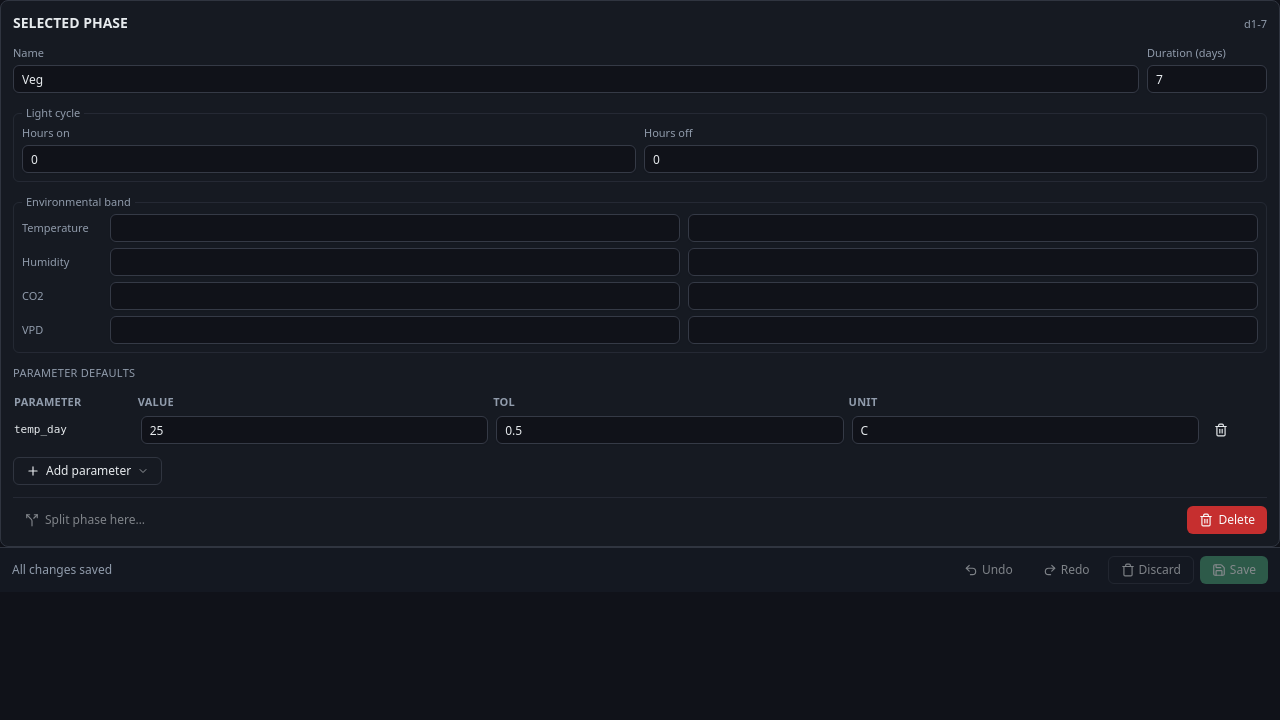
Test: <RecipeSaveBar> › happy path — both PUTs succeed, dirty count clears
Replace the text in the field named "Value for temp_day" with "26" at [314, 430], box [141, 416, 488, 444]
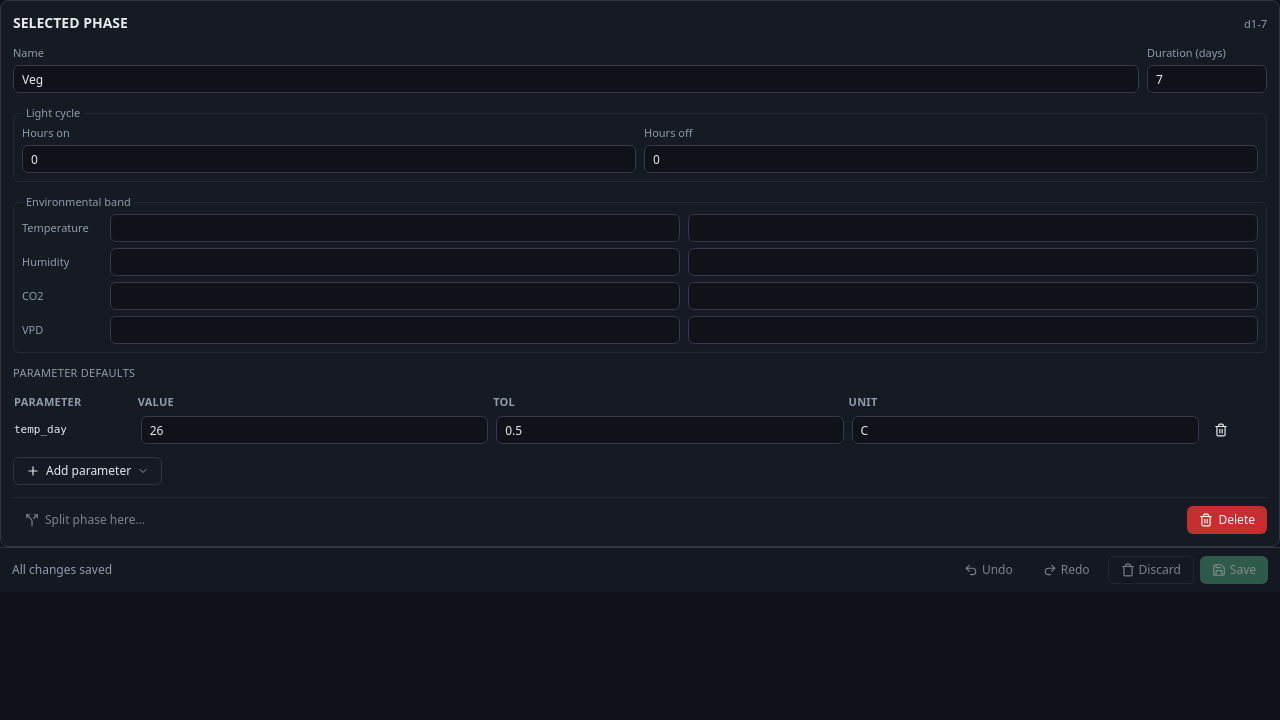
Leave the field named "Value for temp_day", box [141, 416, 488, 444]
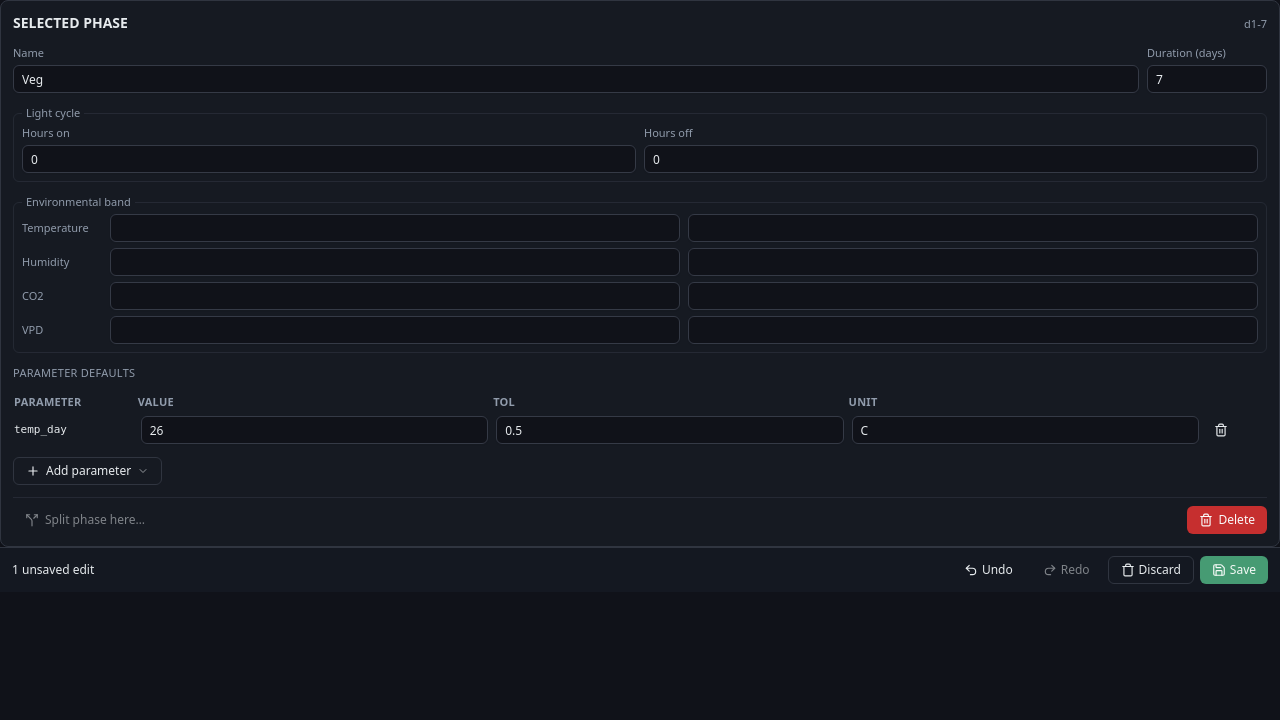
Check: the text with test id "dirty-count" shows "unsaved", box [12, 561, 94, 578]
Click the button with test id "save-button" at [1234, 570], box [1200, 556, 1268, 584]
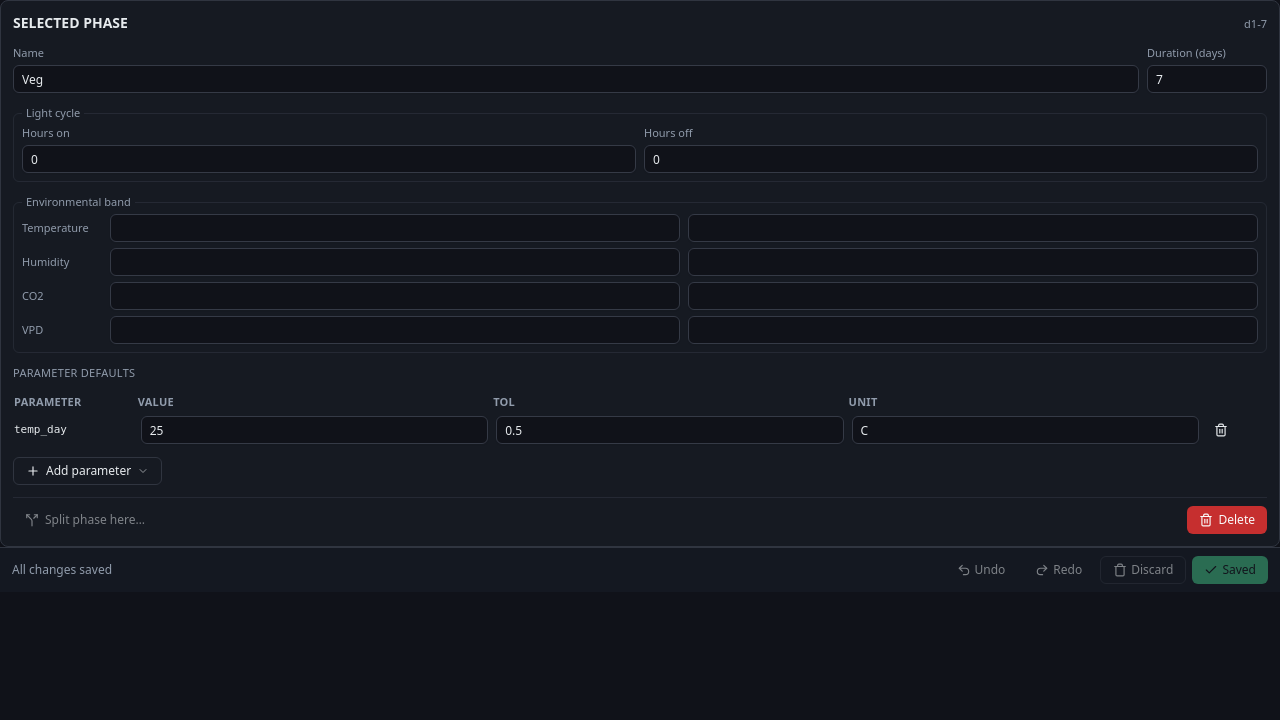
Check: the text with test id "dirty-count" reads "All changes saved", box [12, 561, 112, 578]
